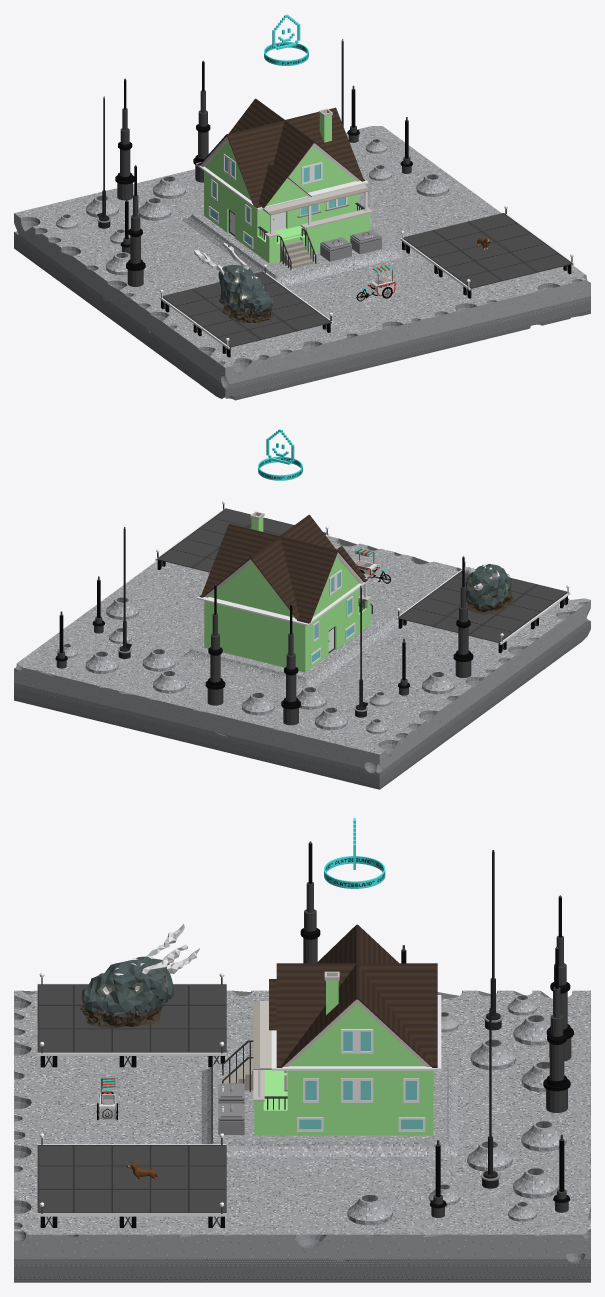
3 renders of one model, top to bottom at view 1: azimuth 30°, elevation 25°; view 2: azimuth 150°, elevation 25°; view 3: azimuth 270°, elevation 25°, orthographic. The views are drawn at different scales.
Visible parts, largest first — view 1: Cube.027, Cube.274, Cube.026, Cube.025, Cube.028, OBJRANDOM_METEORITE, Cylinder.021, Cylinder.020, Cylinder.017, TYPE_PREMIUM, VEHICLES_SNOWBAL_BIKE, Cube.029 (+4 smaller); view 2: Cube.027, Cube.274, Cube.025, Cube.028, Cube.026, OBJRANDOM_METEORITE, Cylinder.017, Cylinder.021, Cylinder.020, TYPE_PREMIUM, Cylinder.030, Cylinder.029 (+8 smaller); view 3: Cube.027, Cube.274, Cube.026, Cube.025, Cube.028, OBJRANDOM_METEORITE, Cylinder.017, Cylinder.020, Cylinder.021, TYPE_PREMIUM, Cylinder.033, Cylinder.031 (+11 smaller).
Boxes of the visible parts, x1,y1,x2,y2 form: Cube.027: (14,126,590,400); Cube.274: (196,98,372,269); Cube.026: (400,205,574,298); Cube.025: (159,264,333,357); Cube.028: (182,211,403,286); OBJRANDOM_METEORITE: (194,242,273,323); Cylinder.021: (126,165,145,286); Cylinder.020: (115,78,134,200); Cylinder.017: (193,60,210,182); TYPE_PREMIUM: (264,14,308,65); VEHICLES_SNOWBAL_BIKE: (356,265,395,301); Cube.029: (320,237,351,261); Cube.027: (14,536,590,789); Cube.274: (197,511,372,672); Cube.025: (396,560,570,653); Cube.028: (181,610,398,688); Cube.026: (155,501,329,572); OBJRANDOM_METEORITE: (464,563,513,614); Cylinder.017: (205,583,225,705); Cylinder.021: (453,556,473,677); Cylinder.020: (281,603,300,725); TYPE_PREMIUM: (258,429,302,480); Cylinder.030: (142,648,175,671); Cylinder.029: (153,670,185,693); Cube.027: (14,990,590,1282); Cube.274: (222,924,441,1135); Cube.026: (37,1133,226,1227); Cube.025: (37,973,226,1067); Cube.028: (201,1063,457,1156); OBJRANDOM_METEORITE: (80,924,199,1027); Cylinder.017: (543,946,570,1112); Cylinder.020: (546,895,573,1061); Cylinder.021: (300,841,320,963); TYPE_PREMIUM: (324,818,385,888); Cylinder.033: (347,1194,392,1225); Cylinder.031: (513,1167,558,1198).
Size of the model in its own units: 4000 by 2703 by 4000.
38 materials, 5 textured.
